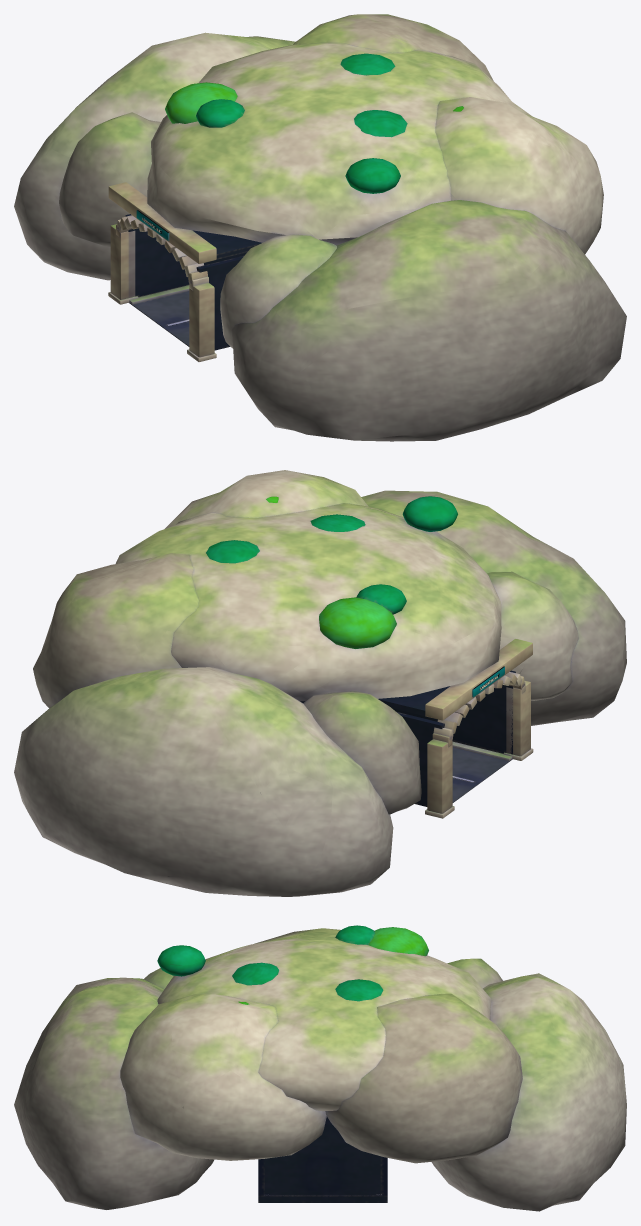
Rendered from tunnel_portal.glb.
The picture shows the model from 3 angles, top to bottom: view 1: azimuth 30°, elevation 25°; view 2: azimuth 150°, elevation 25°; view 3: azimuth 270°, elevation 25°; orthographic projection. The views are drawn at different scales.
Parts seen in each view (by area): view 1: Headland, Portal; view 2: Headland, Portal; view 3: Headland, Portal.
Part boxes in pixels (box(x1,y1,x2,y2)): Headland: box(14, 14, 626, 441); Portal: box(108, 182, 261, 361); Headland: box(14, 470, 626, 896); Portal: box(300, 639, 533, 818); Headland: box(14, 925, 626, 1211); Portal: box(258, 1116, 387, 1202).
Size of what is drawn, in the model's own units: 30.81 by 16.1 by 46.42.
2 materials, 1 textured.
